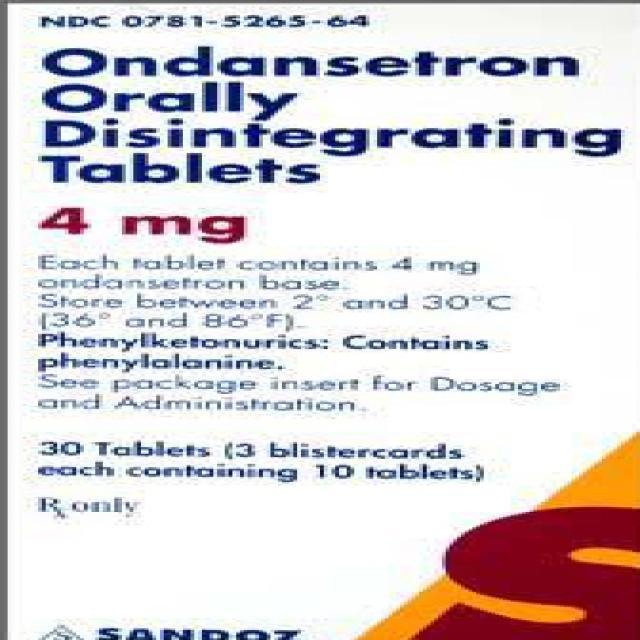drug-name: (31, 44, 628, 154)
